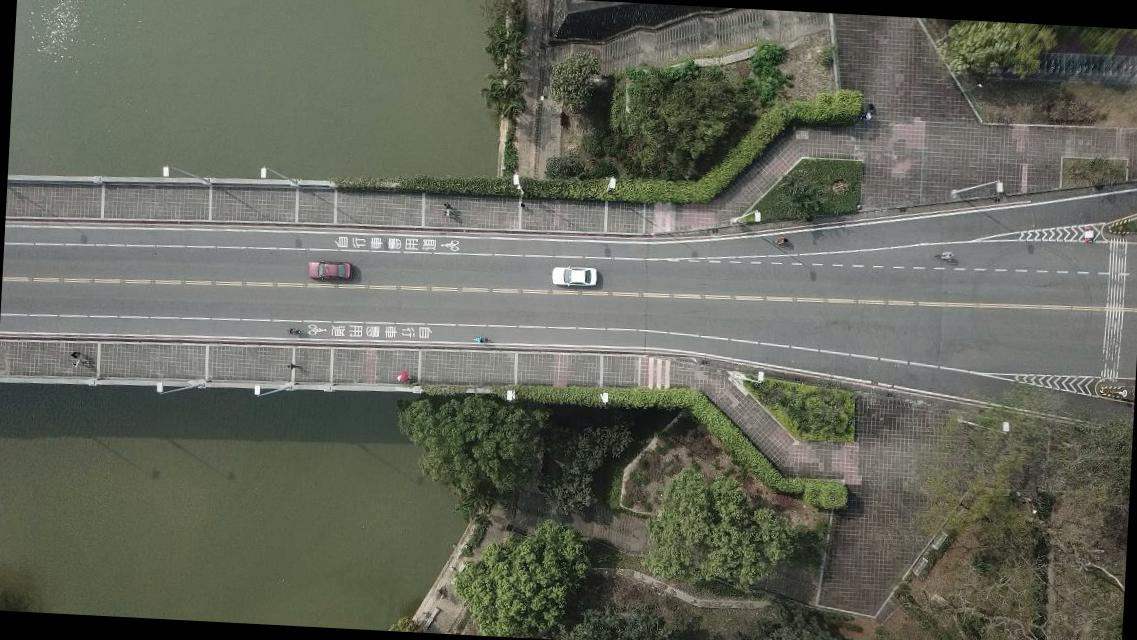vehicle: (550, 265, 596, 289), (306, 260, 352, 282)
